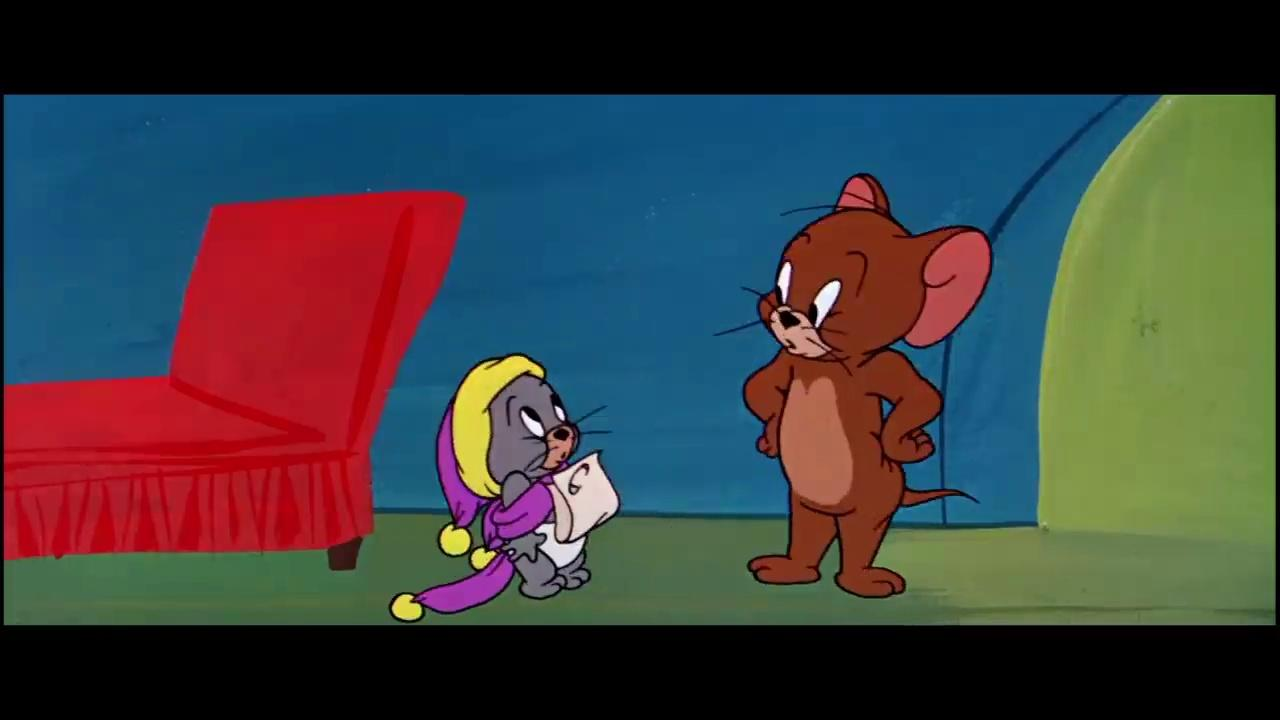Jerry: (726, 171, 995, 599)
